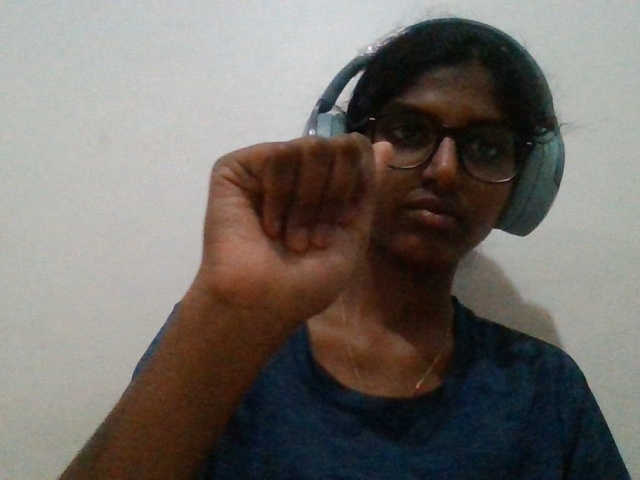A: (172, 123, 393, 445)
